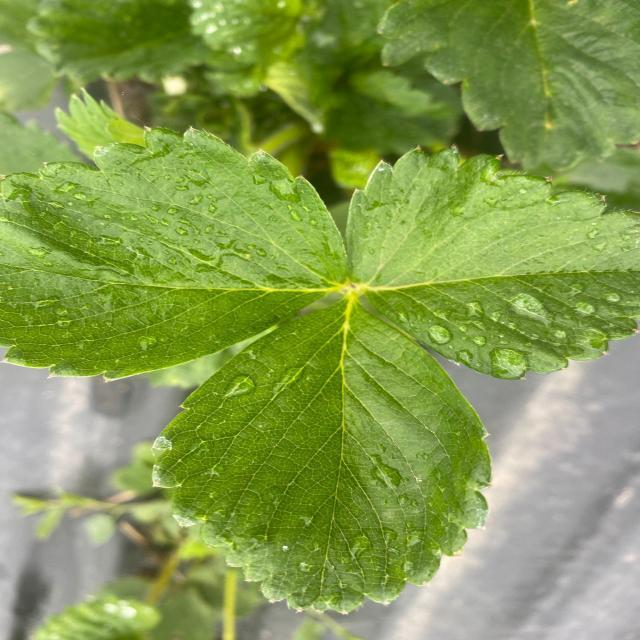flower: (0, 120, 640, 615)
